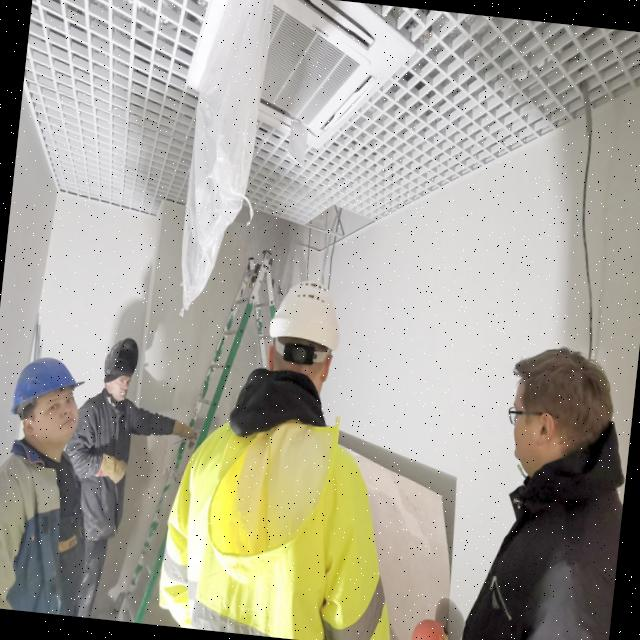Helmet: (262, 277, 348, 399), (8, 352, 90, 460)
NoHelmet: (501, 340, 623, 494), (99, 335, 142, 407)
